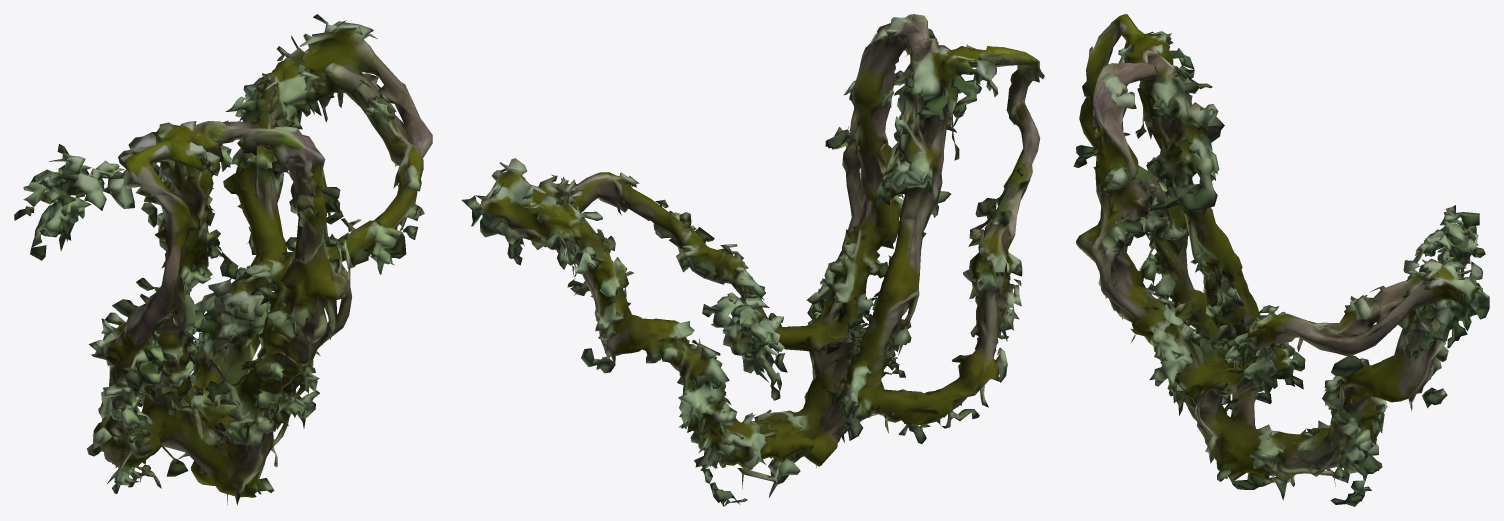
The model's file is ivy_vine_natural.glb.
3 renders of one model, left to right at view 1: azimuth 30°, elevation 25°; view 2: azimuth 150°, elevation 25°; view 3: azimuth 270°, elevation 25°, orthographic. The views are drawn at different scales.
Bounding box in the file's own units: 2 × 2 × 1.85.
1 material, 1 textured.
